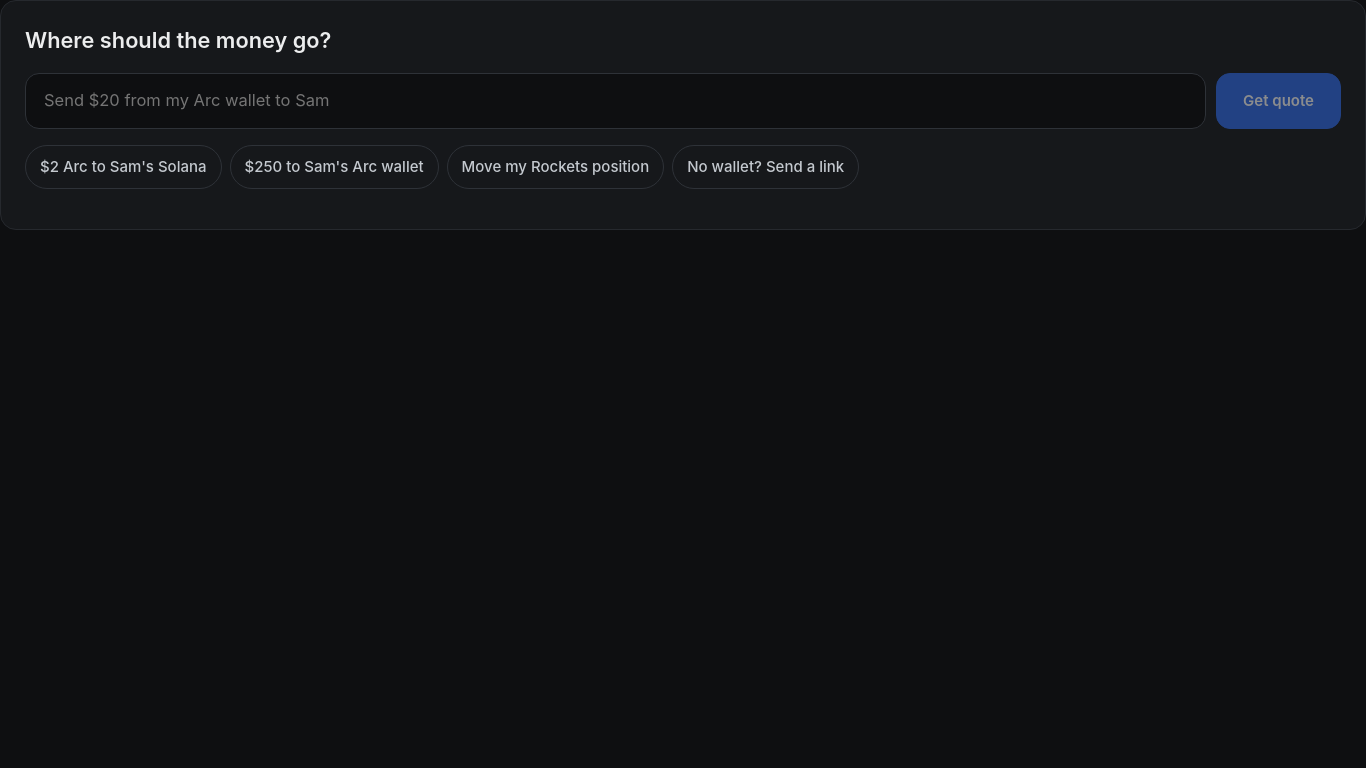
Test: CommandBar › quotes a market buy as a plan card and Confirm executes the plan
Type "put 30 into bitcoin" into the field labelled "Where should the money go?". click: point(616, 100)
box: [25, 72, 1206, 128]
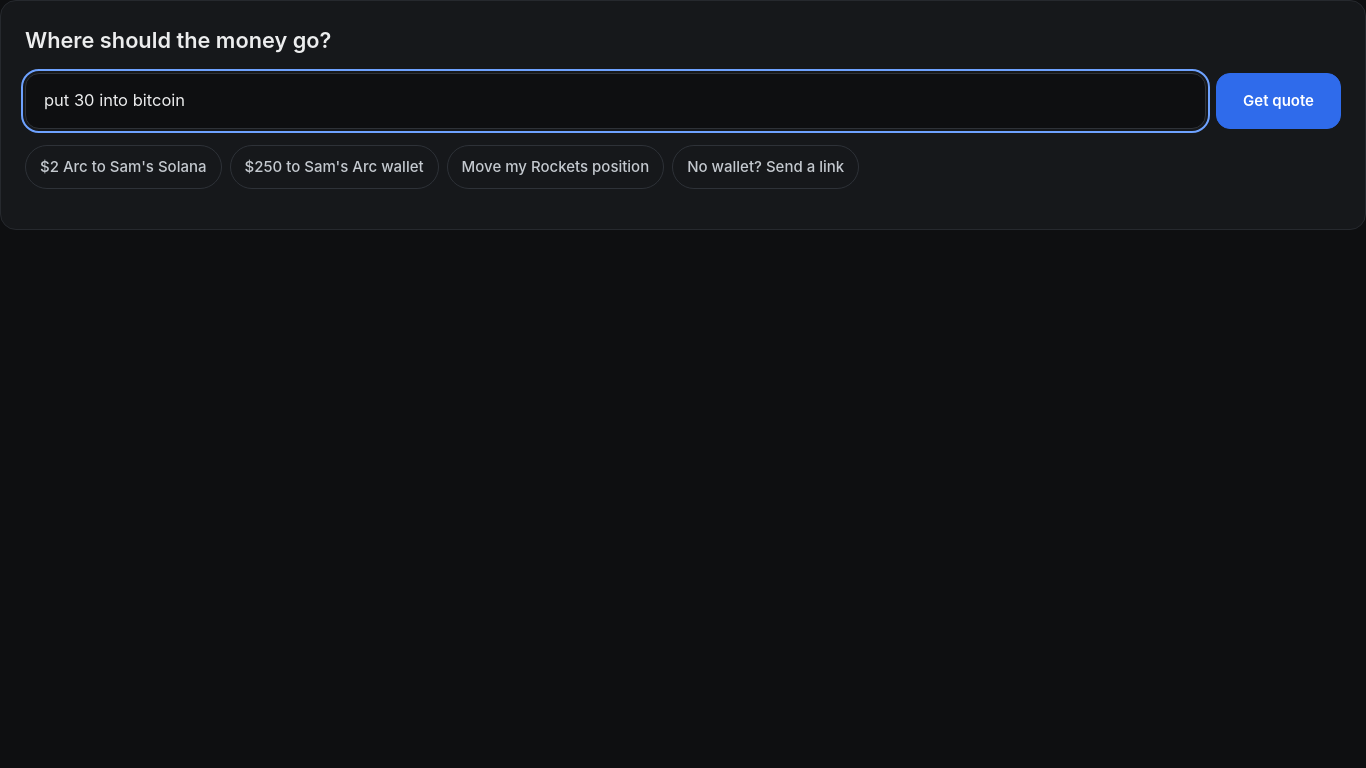
Click the button "Get quote". click: point(1279, 100)
box: [1216, 72, 1341, 128]
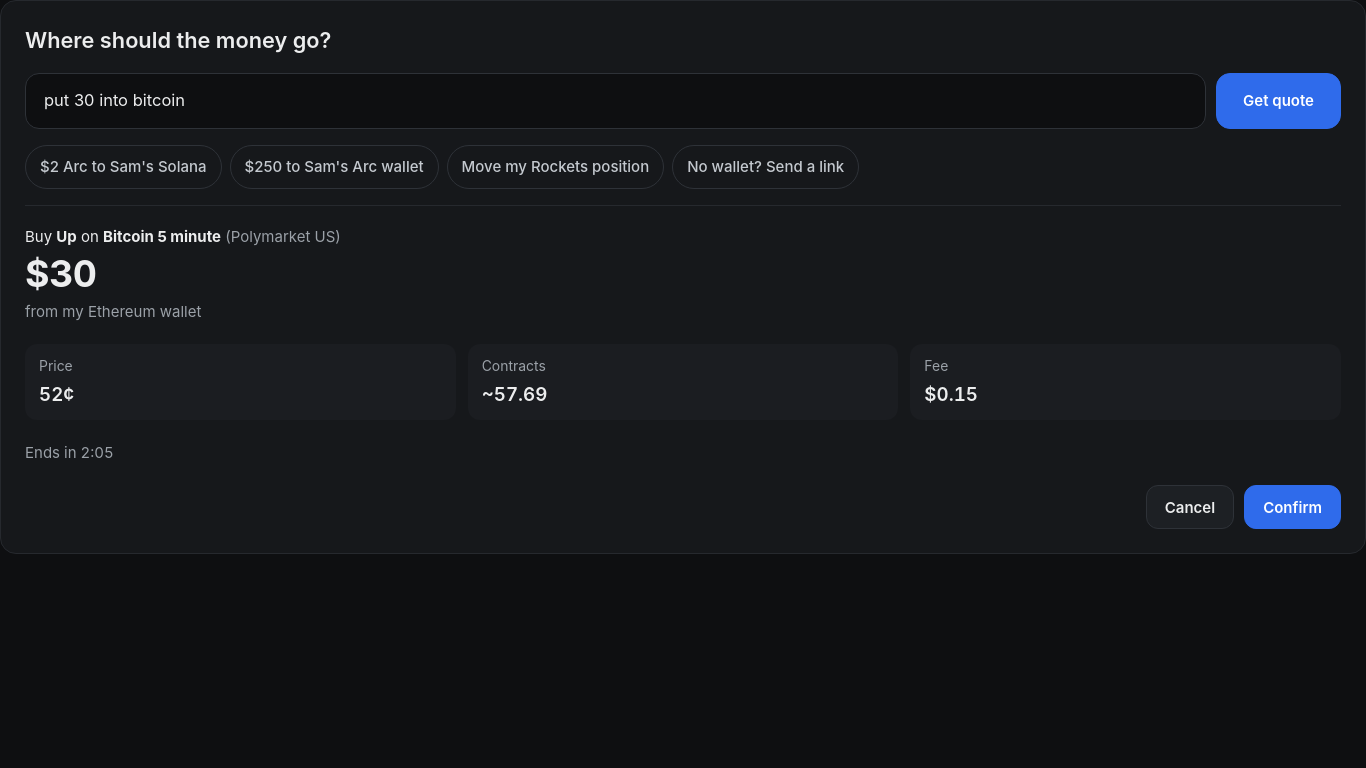
Result: the text "Bitcoin 5 minute" is shown at [103, 226, 221, 246]
Result: the text "Buy Up on Bitcoin 5 minute (Polymarket US)" is shown at [25, 226, 341, 246]
Result: the text "$30" is shown at [25, 251, 96, 296]
Click the button "Confirm". click: point(1293, 507)
box: [1244, 485, 1341, 529]
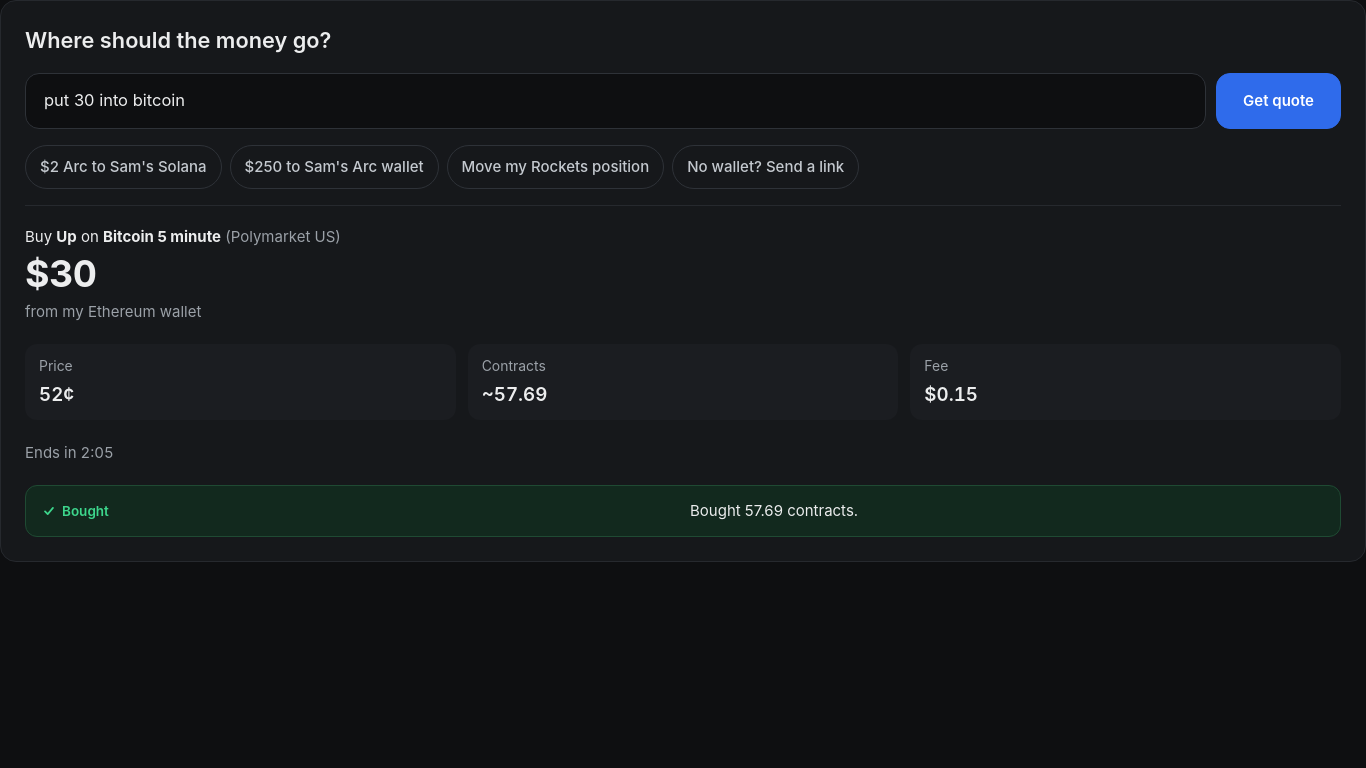
Result: the text "Bought 57.69 contracts." is shown at [690, 501, 858, 520]
Result: the text "Bought" is shown at [62, 502, 109, 521]
